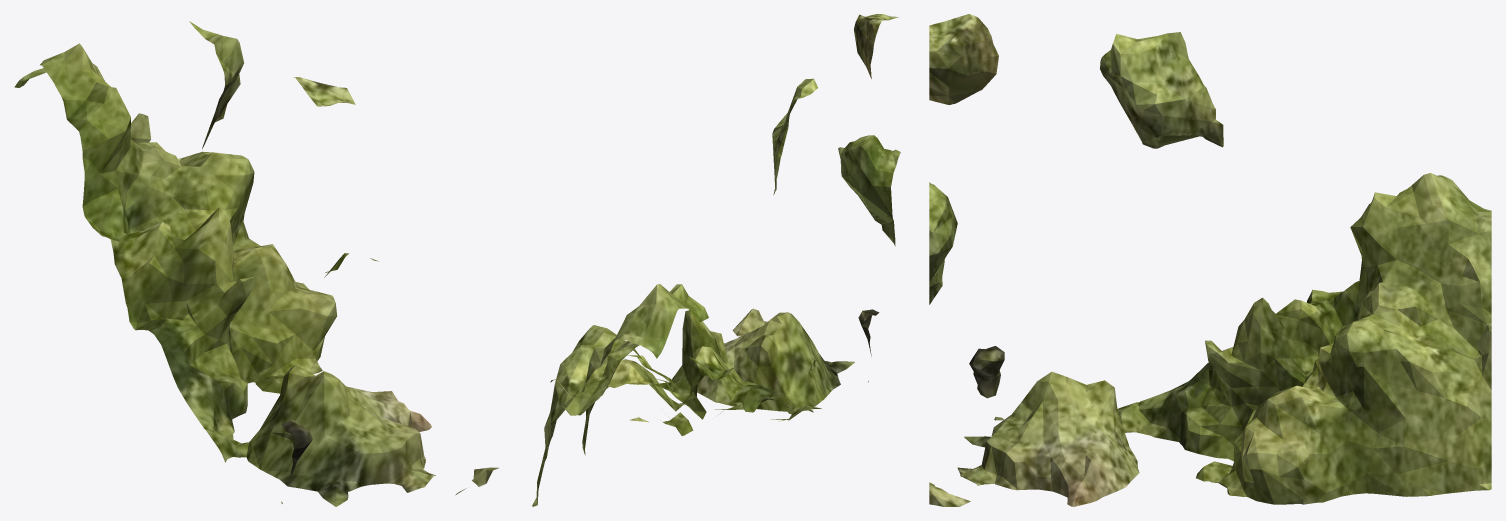
3 views of the same model, side by side, from view 1: azimuth 30°, elevation 25°; view 2: azimuth 150°, elevation 25°; view 3: azimuth 270°, elevation 25° (orthographic). The views are drawn at different scales.
Bounding box in the file's own units: 2.18 × 4.69 × 5.9.
2 materials, 2 textured.
